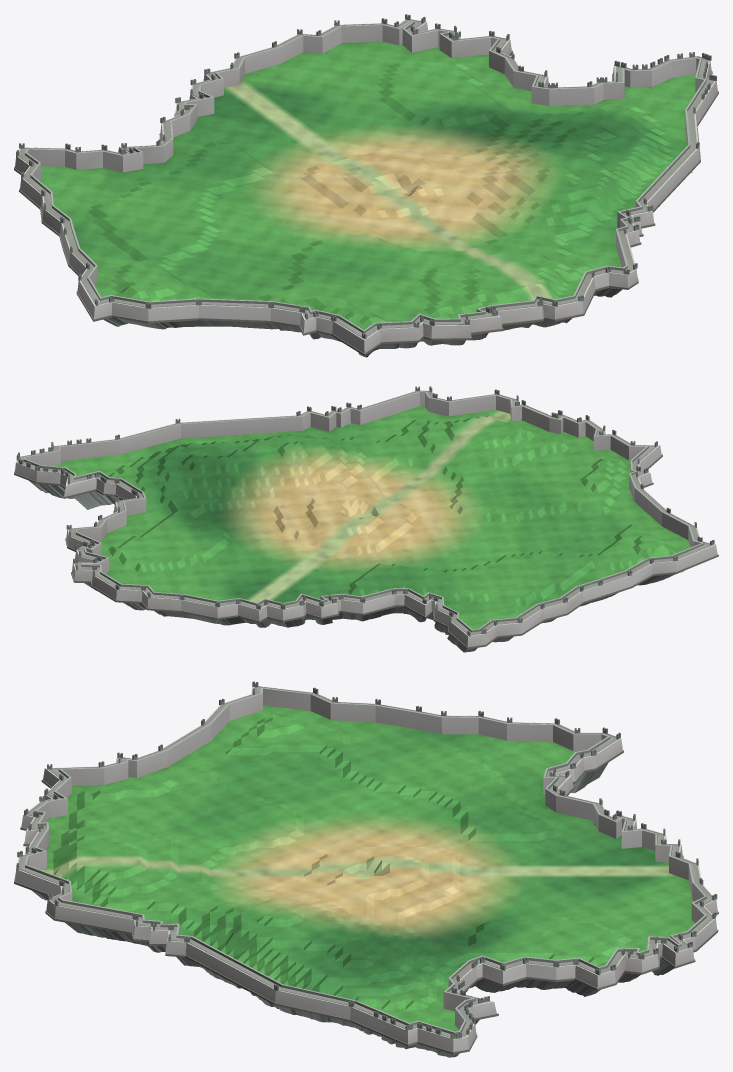
3 views of the same model, one above another, from view 1: azimuth 30°, elevation 25°; view 2: azimuth 150°, elevation 25°; view 3: azimuth 270°, elevation 25° (orthographic). The views are drawn at different scales.
Parts seen in each view (by area): view 1: ground_f083e394; view 2: ground_f083e394; view 3: ground_f083e394.
Part boxes in pixels (x1,y1,x2,y2): ground_f083e394: [14, 14, 718, 357]; ground_f083e394: [14, 386, 718, 652]; ground_f083e394: [14, 681, 718, 1057].
Bounding box in the file's own units: 161 × 8.11 × 135.
3 materials, 1 textured.
